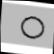no answer: (17, 12, 49, 42)
